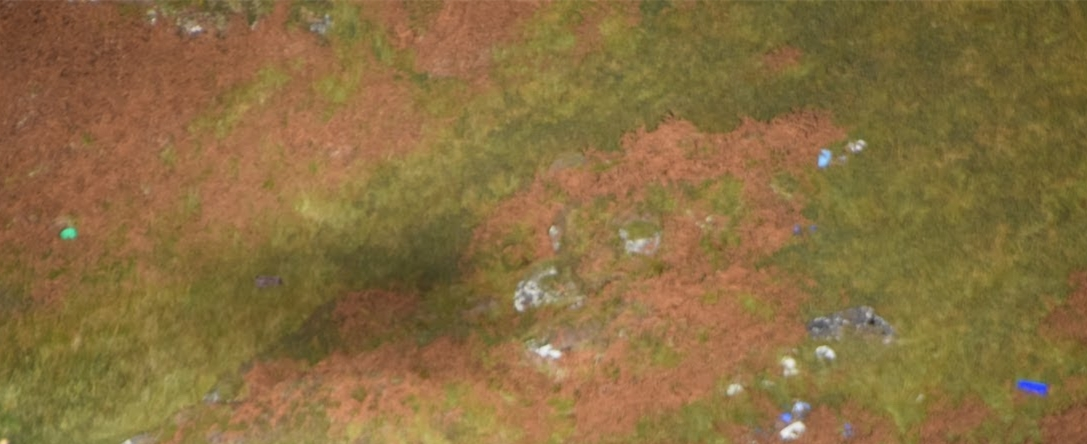scattered_barrel: (754, 124, 1057, 444)
white_in_green: (21, 187, 114, 278)
